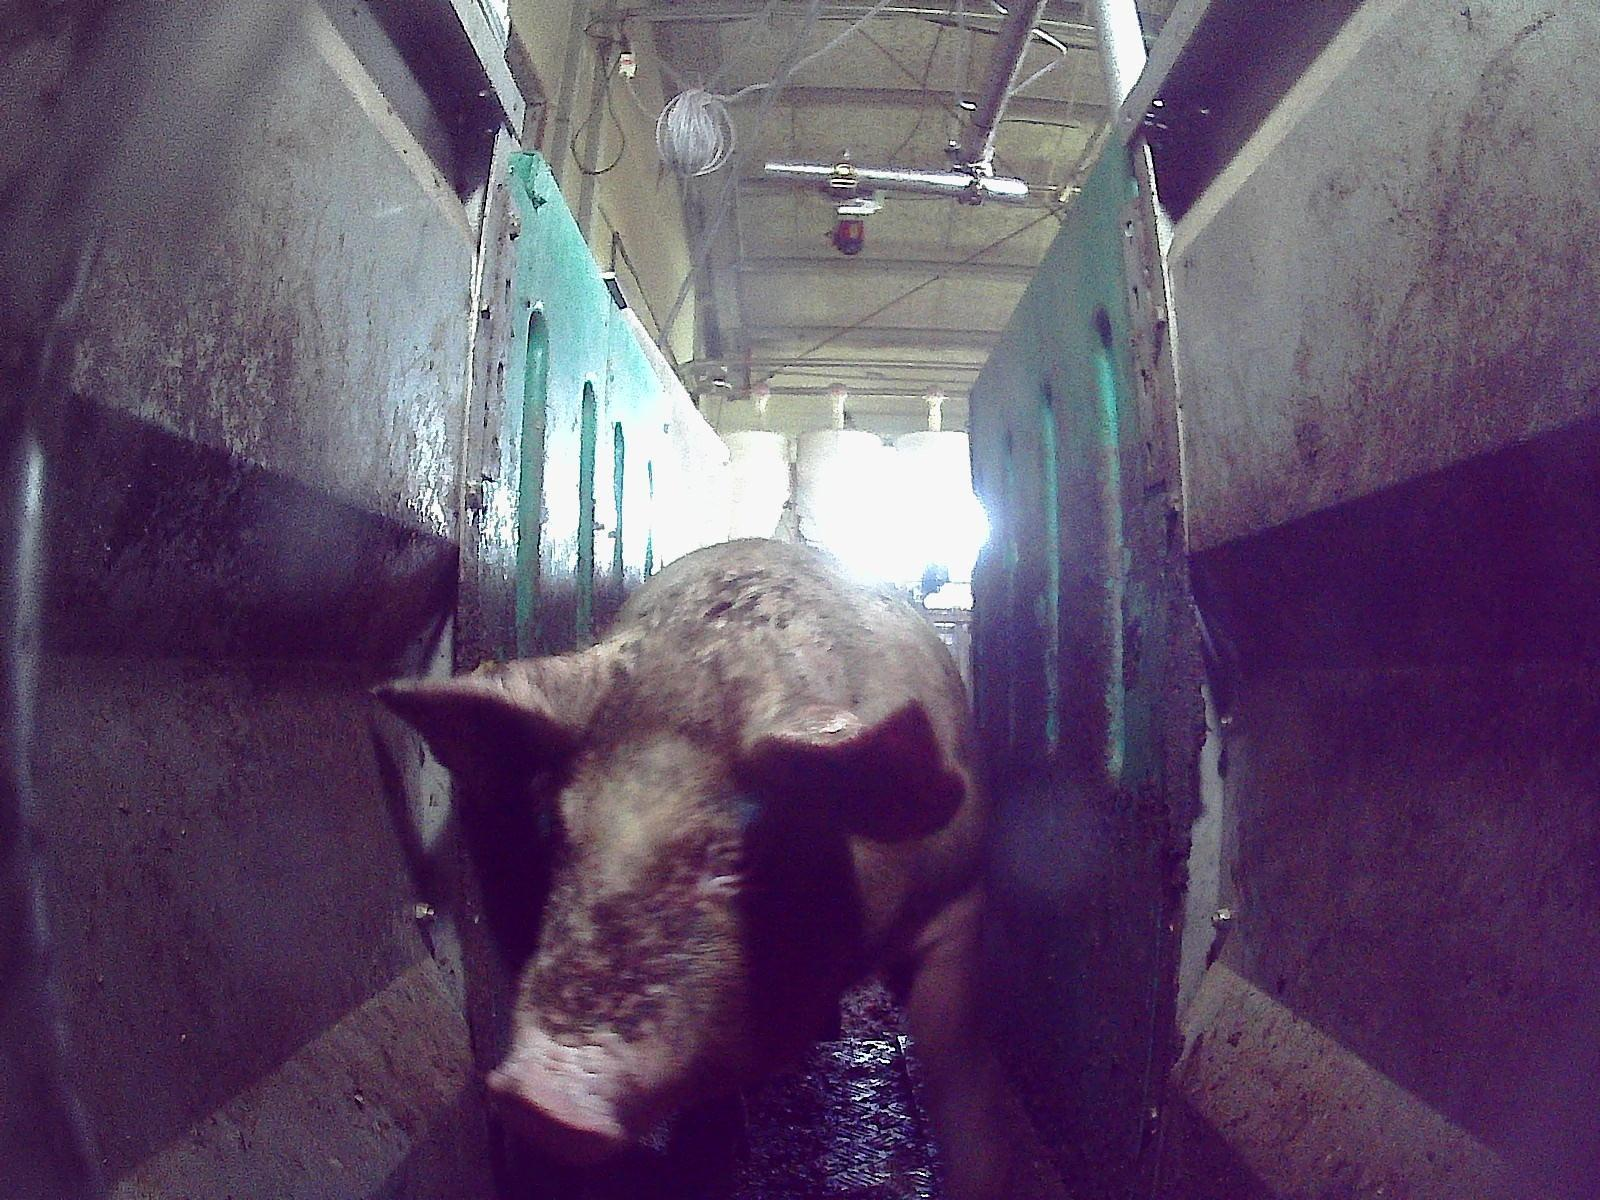Face: (480, 639, 844, 1174)
